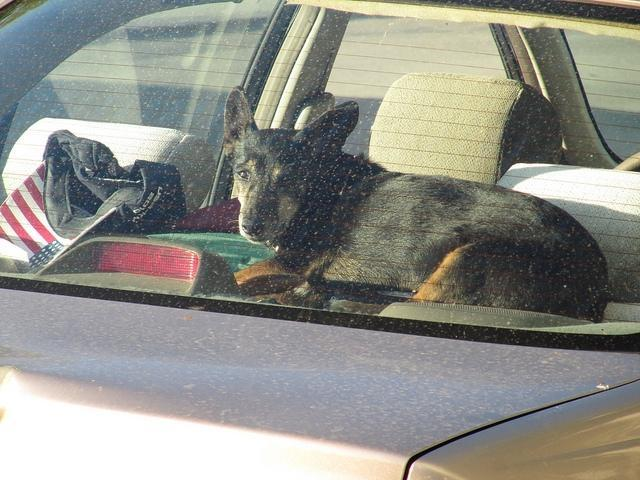car: (2, 5, 631, 474)
